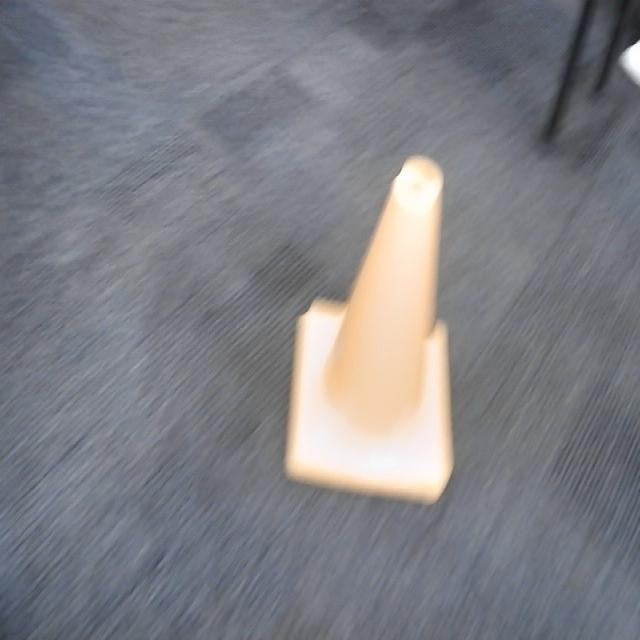cone: (282, 150, 456, 505)
